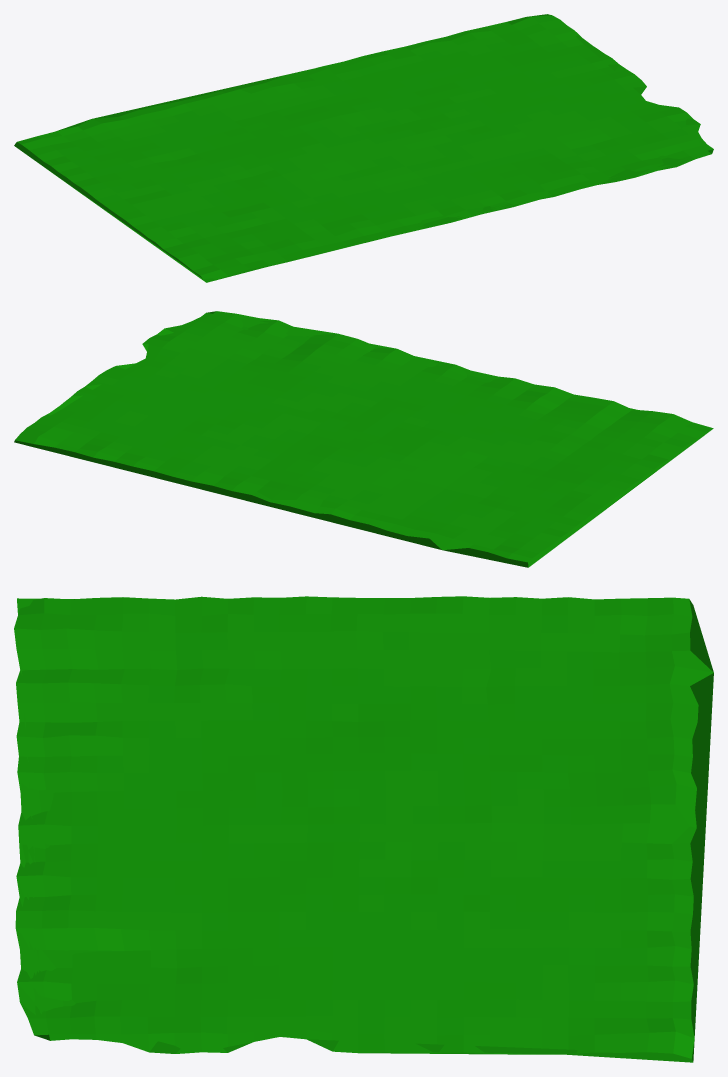
File: PlanoCampo.fbx
3 renders of one model, top to bottom at view 1: azimuth 30°, elevation 25°; view 2: azimuth 150°, elevation 25°; view 3: azimuth 270°, elevation 25°, orthographic. The views are drawn at different scales.
Parts seen in each view (by area): view 1: Cube.025; view 2: Cube.025; view 3: Cube.025.
Boxes of the visible parts, x1,y1,x2,y2 form: Cube.025: [14, 14, 713, 282]; Cube.025: [14, 311, 713, 567]; Cube.025: [14, 596, 713, 1062].
Bounding box in the file's own units: 104567 × 1428 × 67607.
